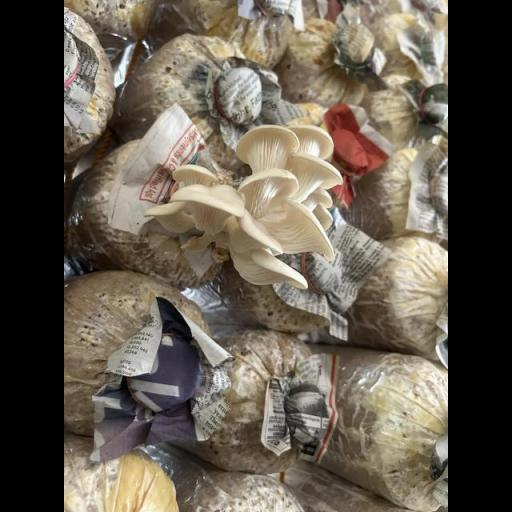White Oyster Mushroom: (139, 104, 363, 299)
